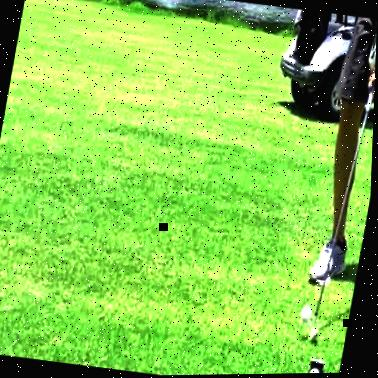ClubHead: (303, 307, 315, 326)
GolfBall: (309, 309, 326, 345)
